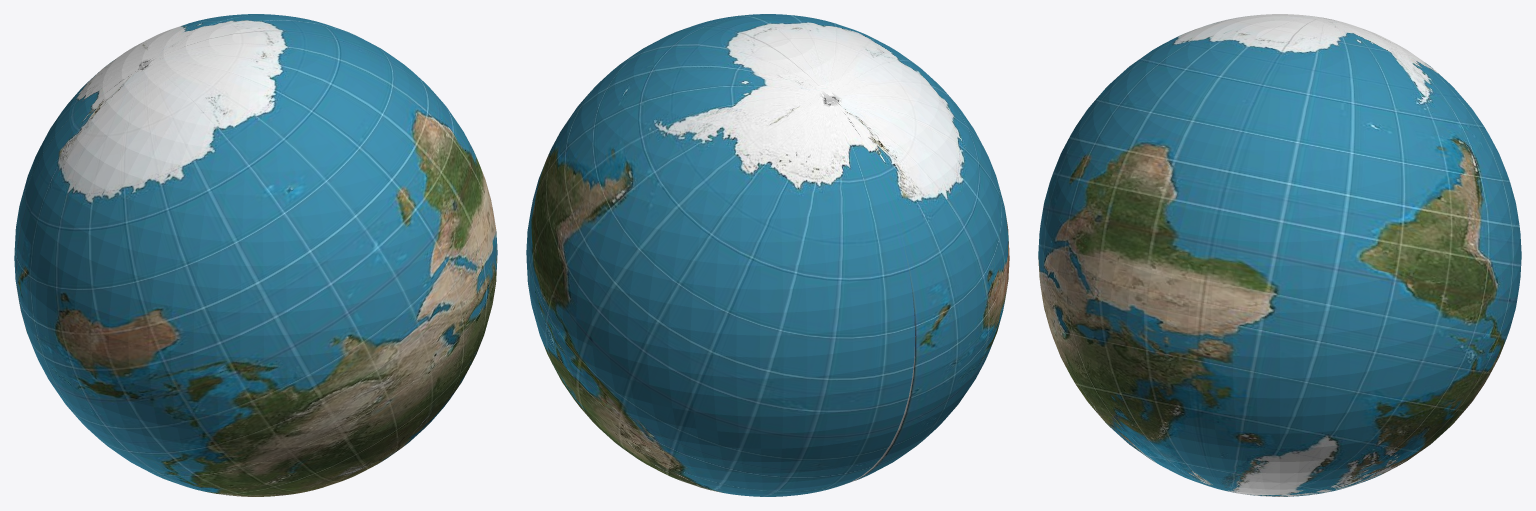
The model's file is globe.obj.
The picture shows the model from 3 angles, left to right: view 1: azimuth 30°, elevation 25°; view 2: azimuth 150°, elevation 25°; view 3: azimuth 270°, elevation 25°; orthographic projection.
Parts seen in each view (by area): view 1: Sphere; view 2: Sphere; view 3: Sphere.
Boxes of the visible parts, left/top/right/bottom form: Sphere: left=14, top=14, right=497, bottom=496; Sphere: left=526, top=14, right=1009, bottom=496; Sphere: left=1038, top=14, right=1521, bottom=496.
Size of the model in its own units: 2 by 2 by 2.
